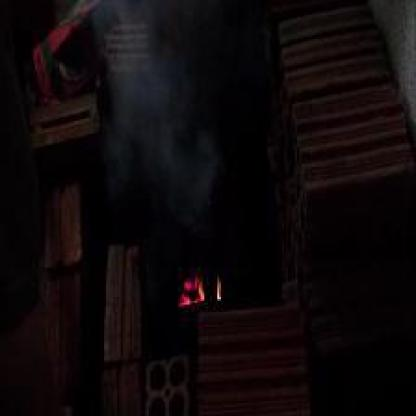fire: (154, 253, 214, 312)
